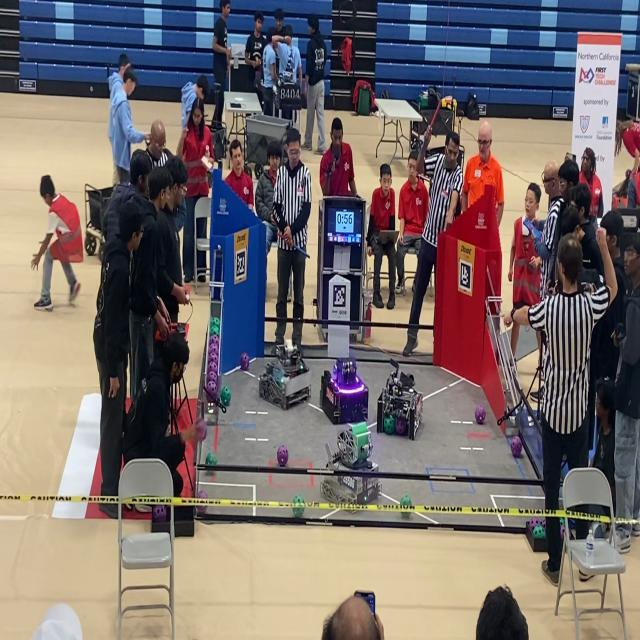artifact_green: (383, 414, 395, 435), (293, 495, 304, 517), (220, 386, 231, 407), (533, 526, 545, 539), (400, 495, 412, 508), (529, 517, 540, 531), (206, 452, 217, 465), (400, 495, 411, 507), (211, 325, 220, 337), (276, 375, 284, 388), (209, 319, 216, 333), (196, 505, 206, 514), (209, 325, 215, 340), (560, 524, 565, 541), (212, 318, 220, 327), (540, 518, 545, 529), (213, 317, 220, 324), (560, 518, 564, 526), (210, 318, 214, 326), (210, 318, 213, 327)
artifact_purple: (395, 416, 408, 436), (196, 419, 207, 442), (511, 436, 522, 458), (277, 445, 288, 466), (153, 505, 166, 522), (208, 351, 218, 370), (475, 405, 485, 424), (207, 380, 217, 398), (208, 350, 218, 367), (240, 352, 249, 370), (208, 335, 219, 349), (207, 358, 217, 373), (208, 356, 217, 372), (529, 517, 540, 530), (207, 369, 217, 383), (208, 344, 218, 358), (209, 335, 219, 347), (207, 369, 217, 381), (208, 341, 217, 353), (210, 335, 219, 346), (211, 369, 218, 382), (210, 341, 219, 351), (197, 505, 206, 514), (560, 524, 564, 539), (540, 518, 545, 528)
